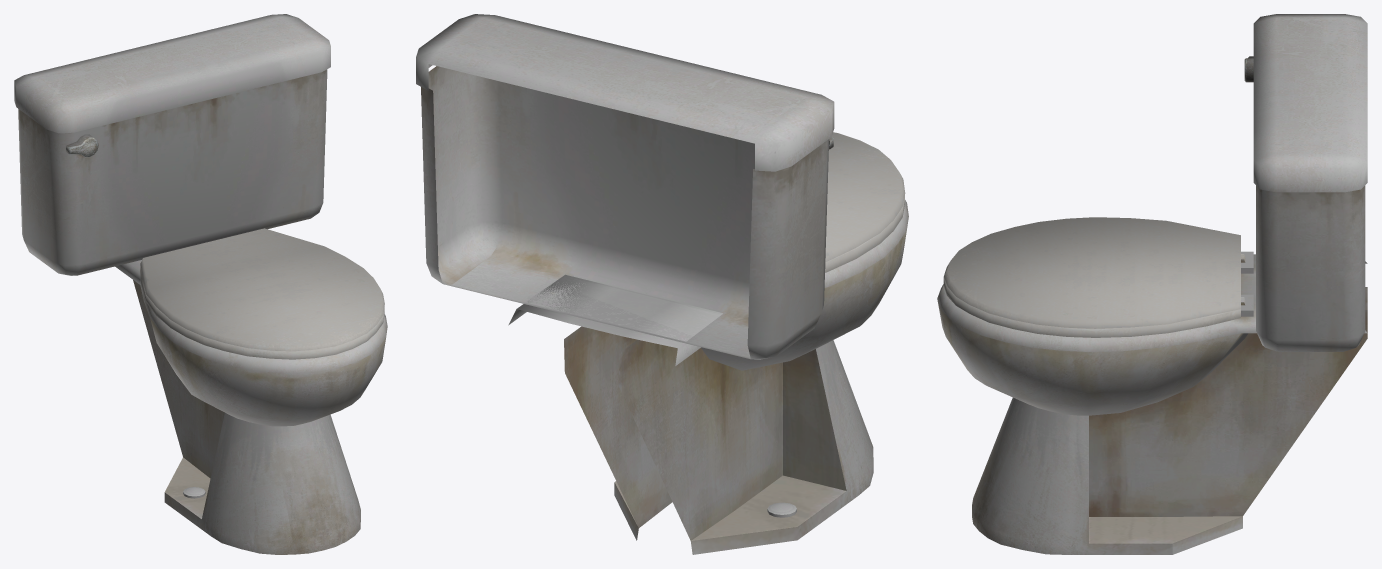
The model's file is Pan02.FBX.
3 views of the same model, side by side, from view 1: azimuth 30°, elevation 25°; view 2: azimuth 150°, elevation 25°; view 3: azimuth 270°, elevation 25° (orthographic). The views are drawn at different scales.
Parts seen in each view (by area): view 1: SM_Pan02; view 2: SM_Pan02; view 3: SM_Pan02.
Boxes of the visible parts, x1,y1,x2,y2 form: SM_Pan02: (14, 14, 387, 554); SM_Pan02: (416, 14, 908, 554); SM_Pan02: (937, 14, 1367, 554).
Bounding box in the file's own units: 71.35 × 92.27 × 83.56.
1 material, 1 textured.
